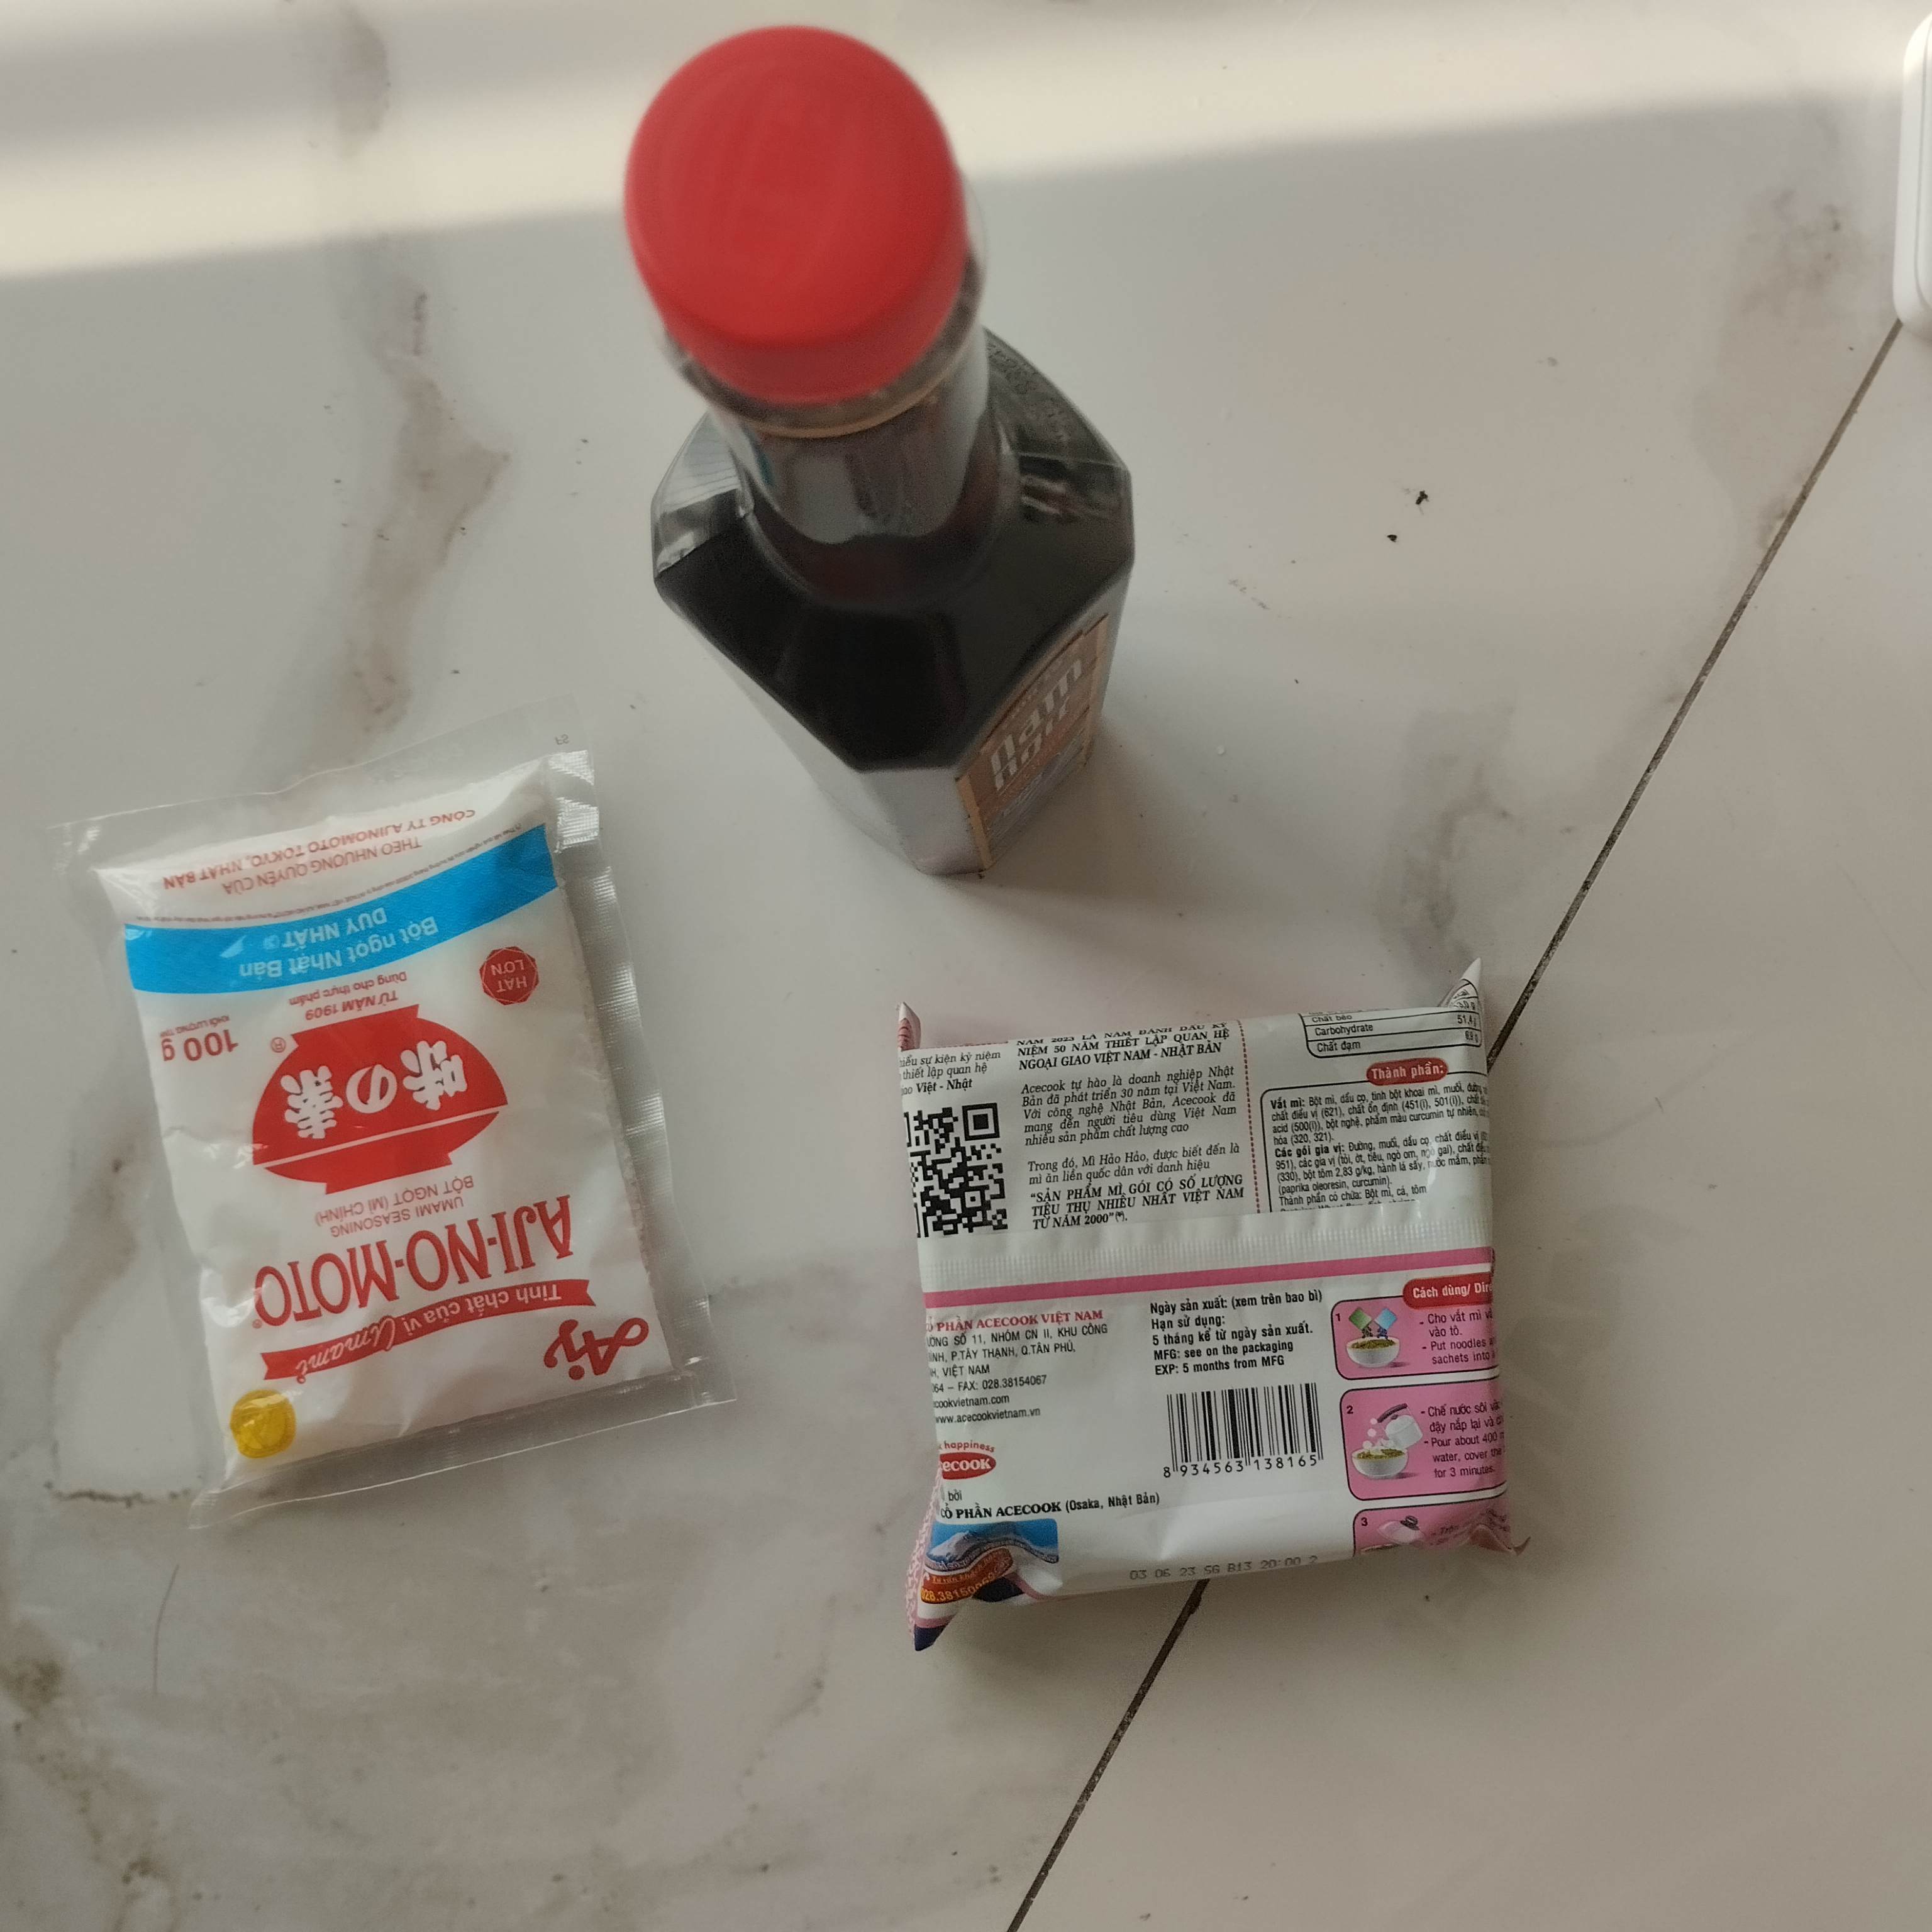Ajinomoto: (46, 738, 708, 1532)
Haohao: (867, 950, 1545, 1660)
Namngu: (609, 4, 1155, 901)
